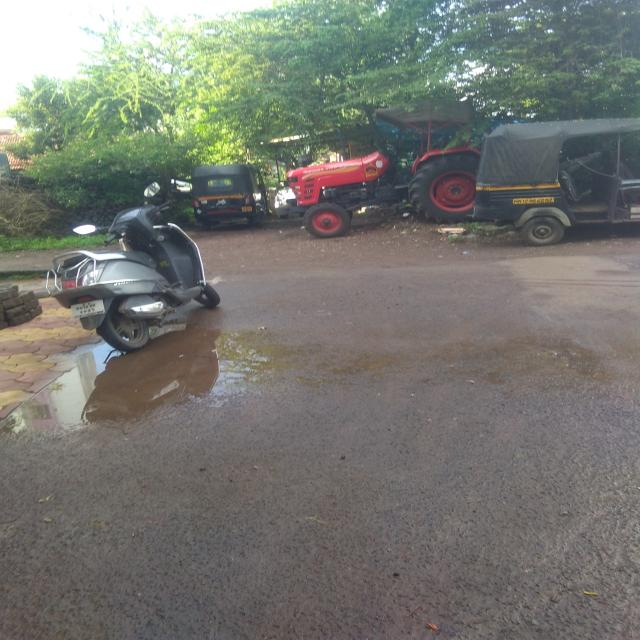Bike: (40, 185, 224, 375)
Tractor: (281, 120, 454, 238)
